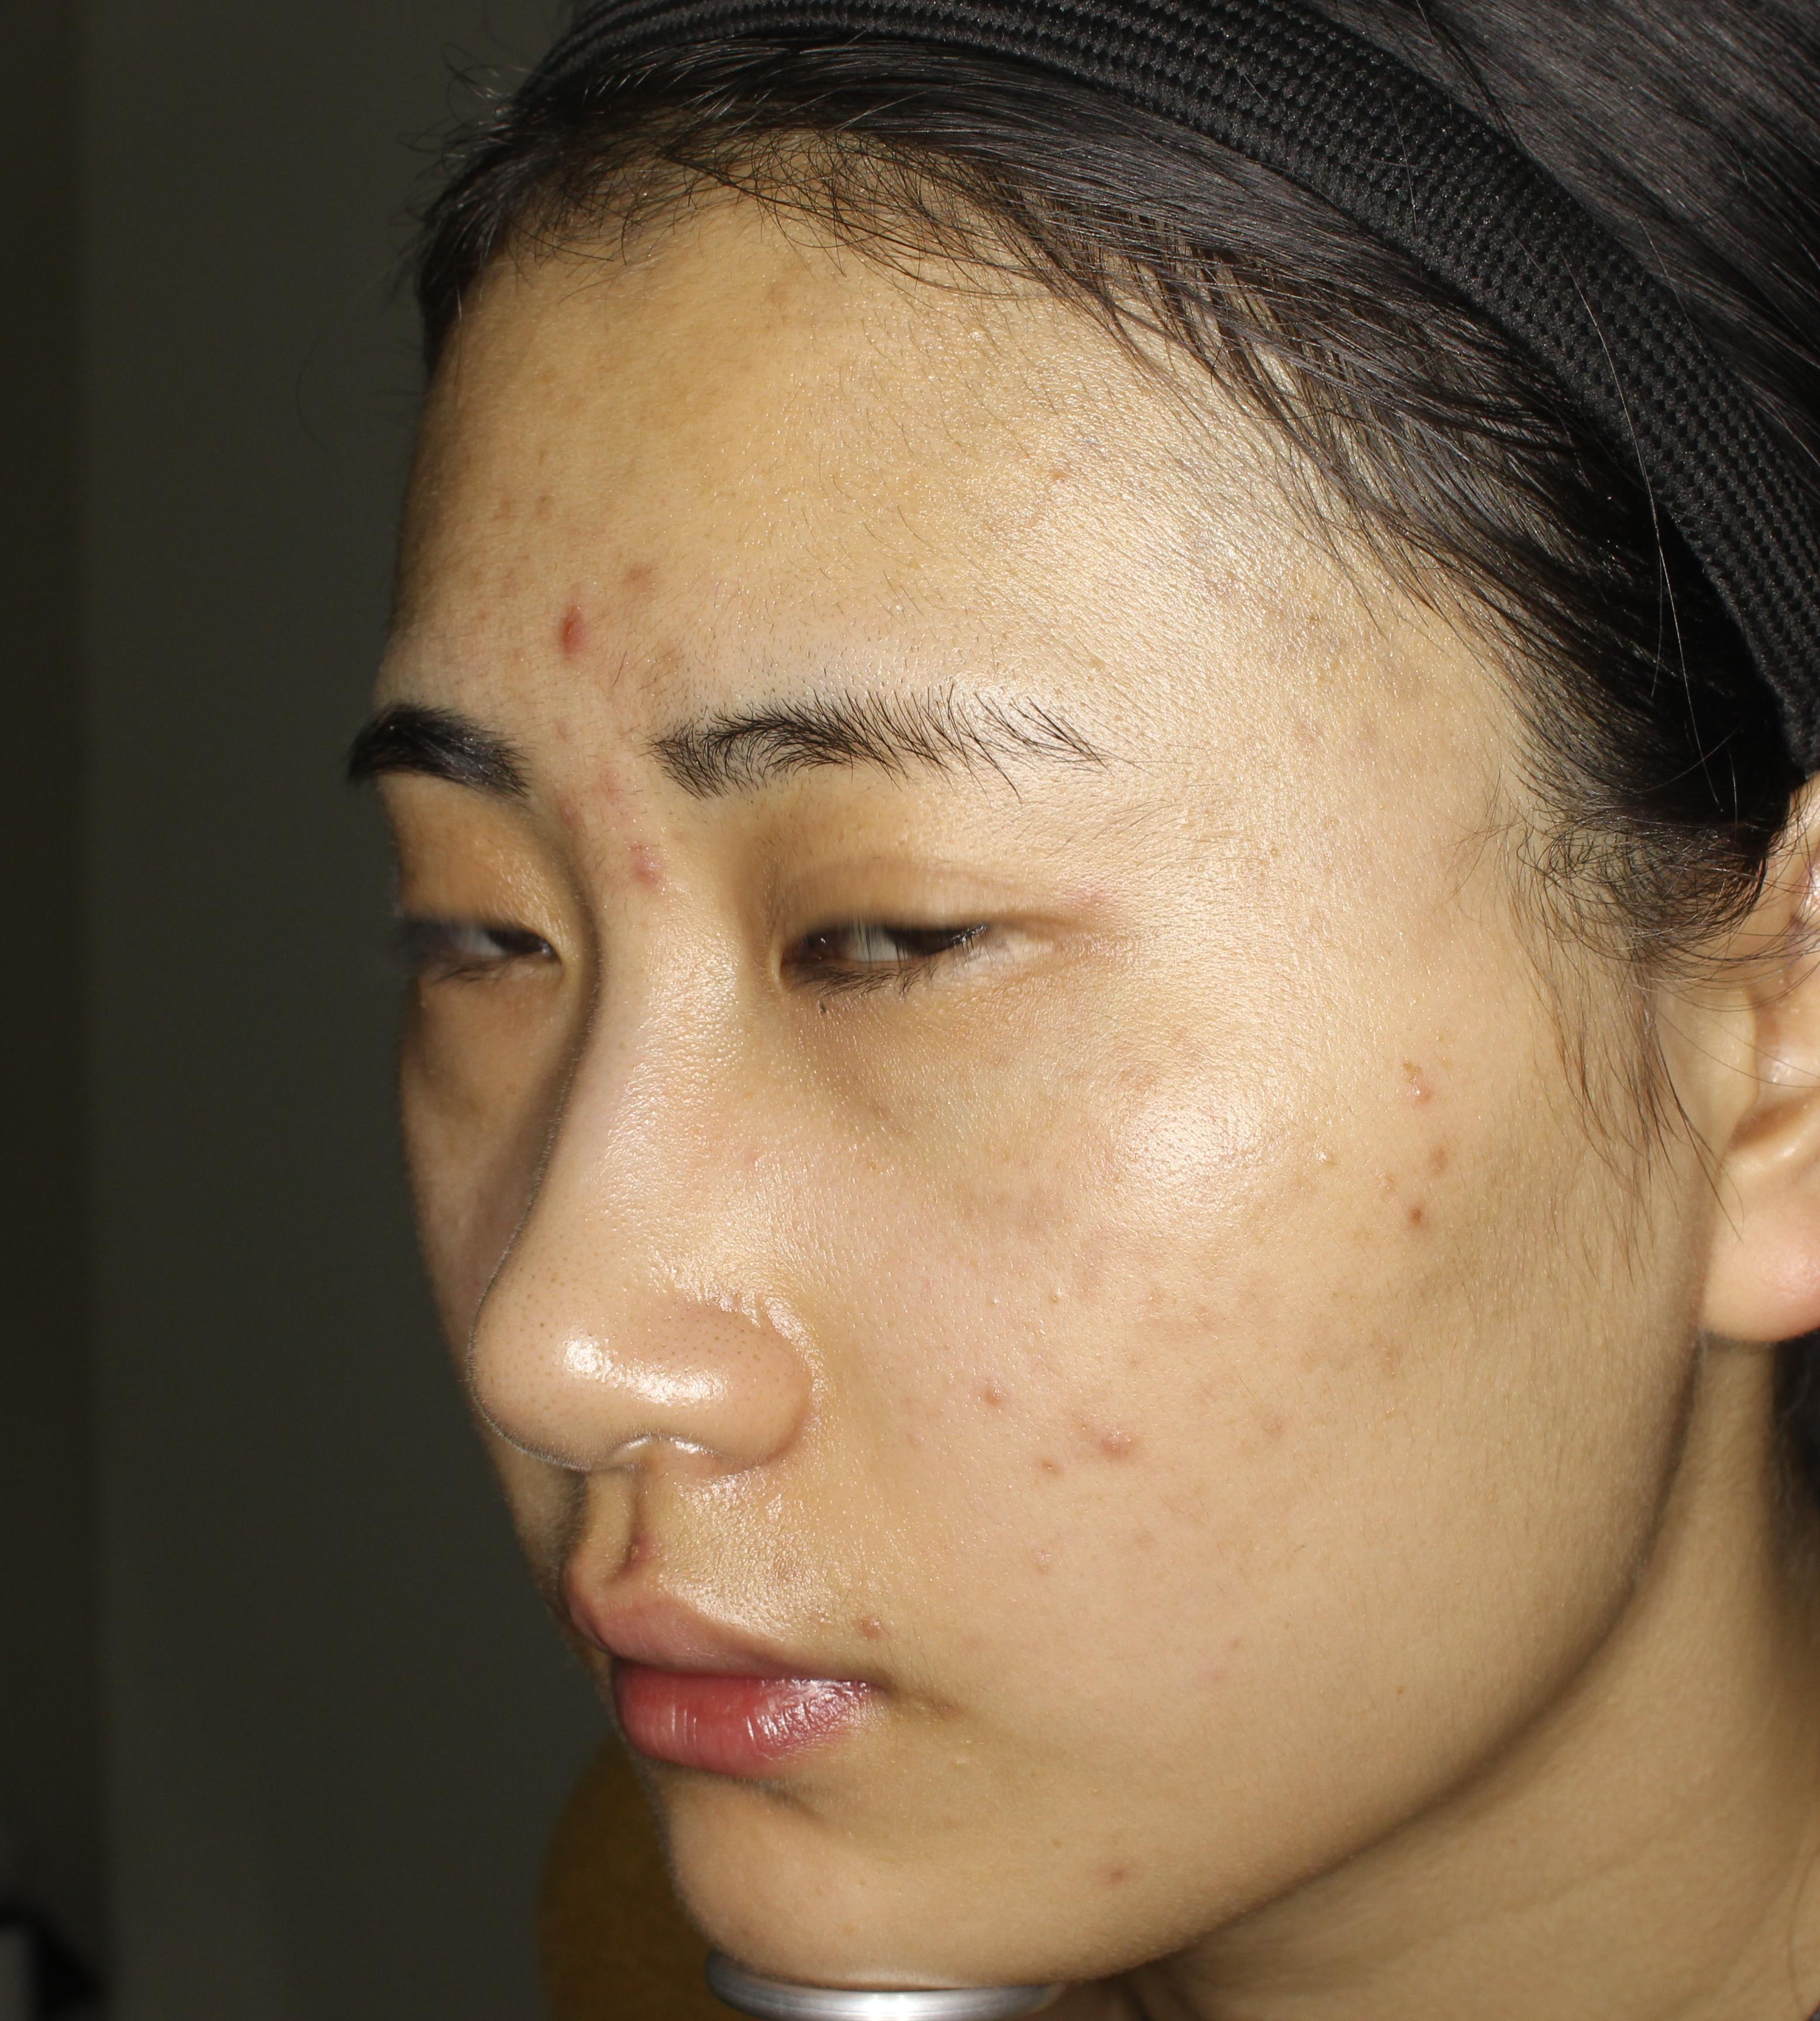fore: (522, 585, 603, 685), (592, 544, 687, 622), (1400, 1055, 1481, 1145), (1059, 1406, 1135, 1482), (629, 639, 727, 694), (611, 841, 678, 904), (583, 752, 638, 809)
